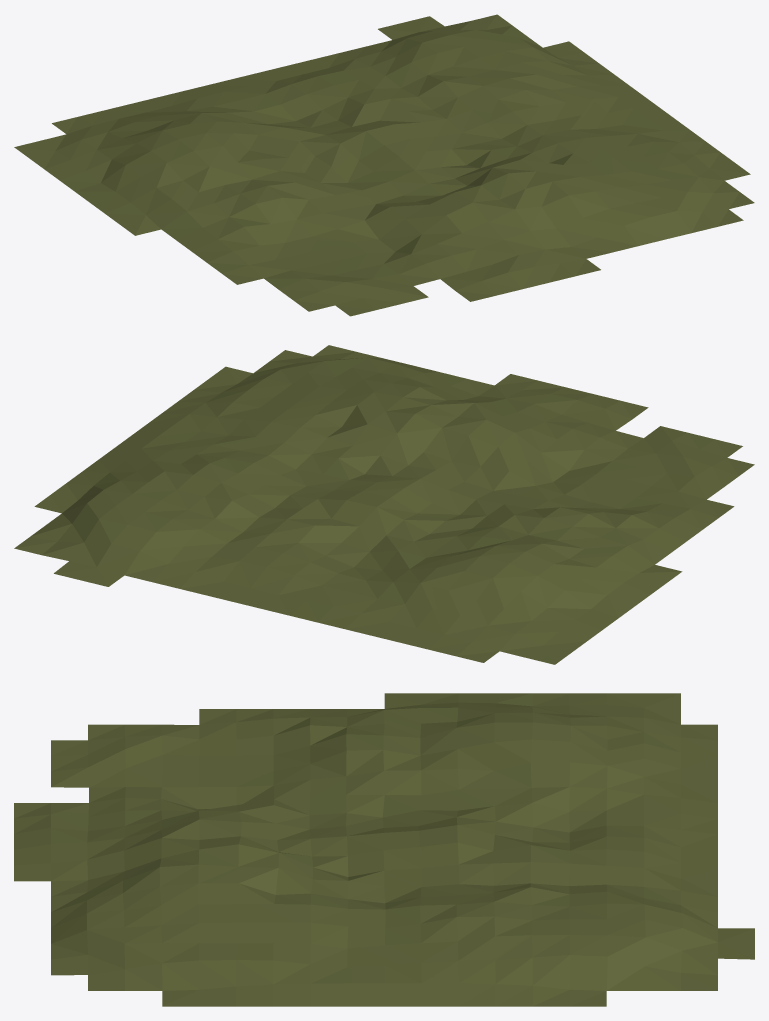
The model's file is adventure_SM_Env_GroundMounds_08.gltf.
3 renders of one model, top to bottom at view 1: azimuth 30°, elevation 25°; view 2: azimuth 150°, elevation 25°; view 3: azimuth 270°, elevation 25°, orthographic. The views are drawn at different scales.
Parts seen in each view (by area): view 1: SM_Env_GroundMounds_08; view 2: SM_Env_GroundMounds_08; view 3: SM_Env_GroundMounds_08.
Boxes of the visible parts, box(x1,y1,x2,y2) form: SM_Env_GroundMounds_08: box(14, 14, 754, 316); SM_Env_GroundMounds_08: box(14, 345, 754, 664); SM_Env_GroundMounds_08: box(14, 693, 754, 1006).
Bounding box in the file's own units: 8.14 × 0.5149 × 8.14.
Materials: 1 (1 with a texture image).
